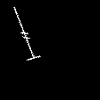treble_crochet: (14, 7, 39, 59)
